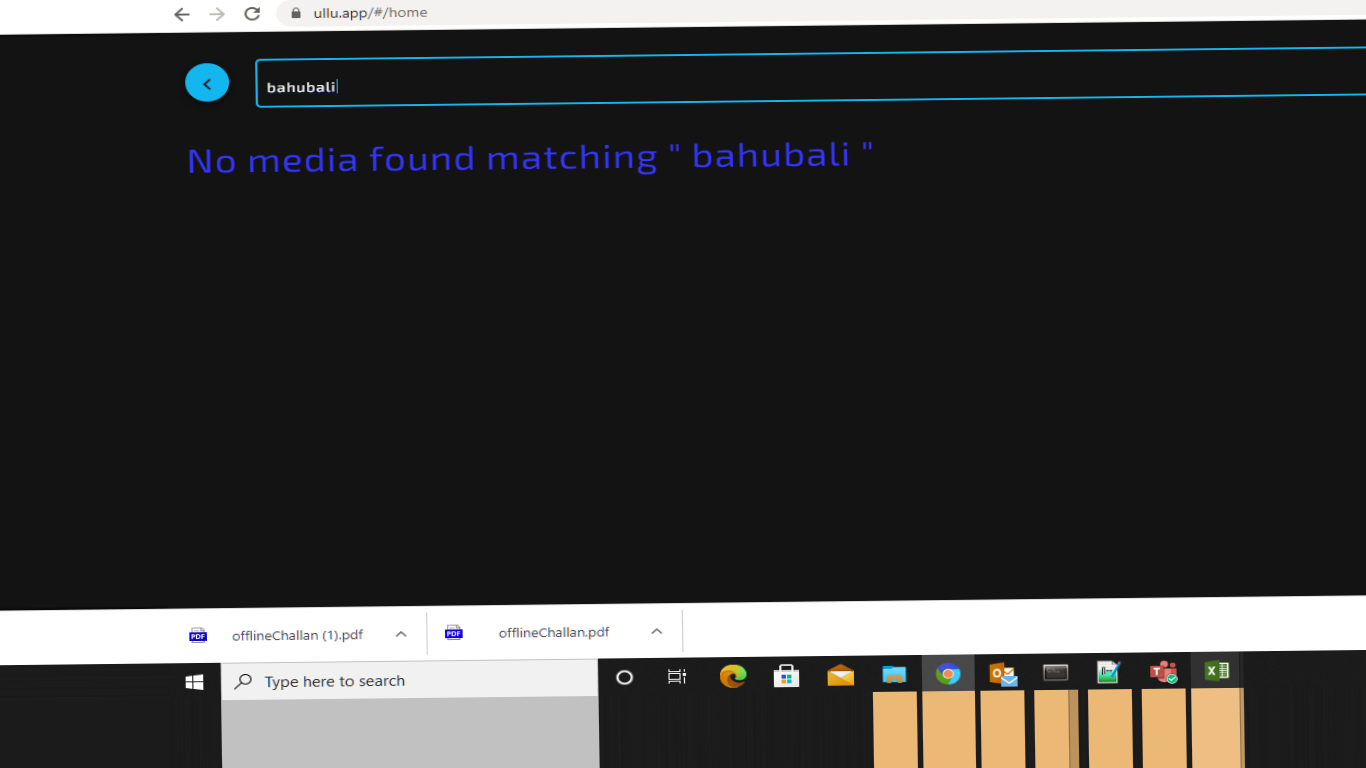noresultsfound: (179, 122, 889, 199)
searchtextbox: (251, 57, 1366, 105)
